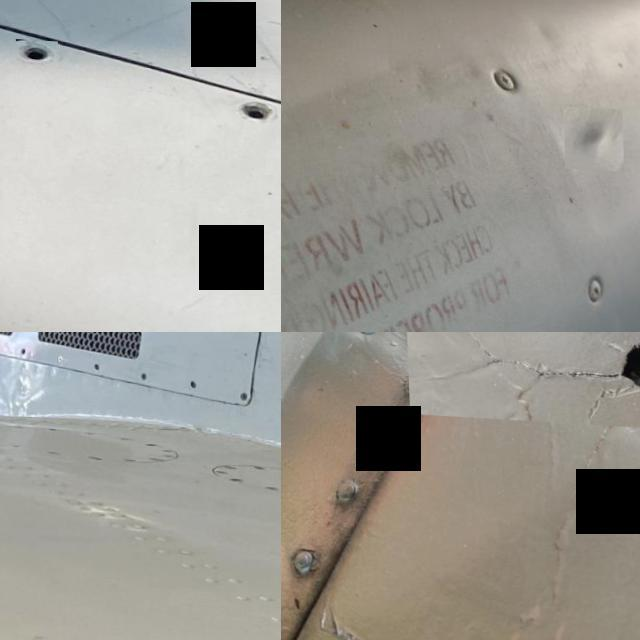Crack: (403, 332, 640, 425)
Dent: (561, 102, 622, 167)
Missing_Fastener: (15, 35, 58, 62), (234, 89, 276, 116), (184, 375, 197, 384), (92, 359, 103, 368)
